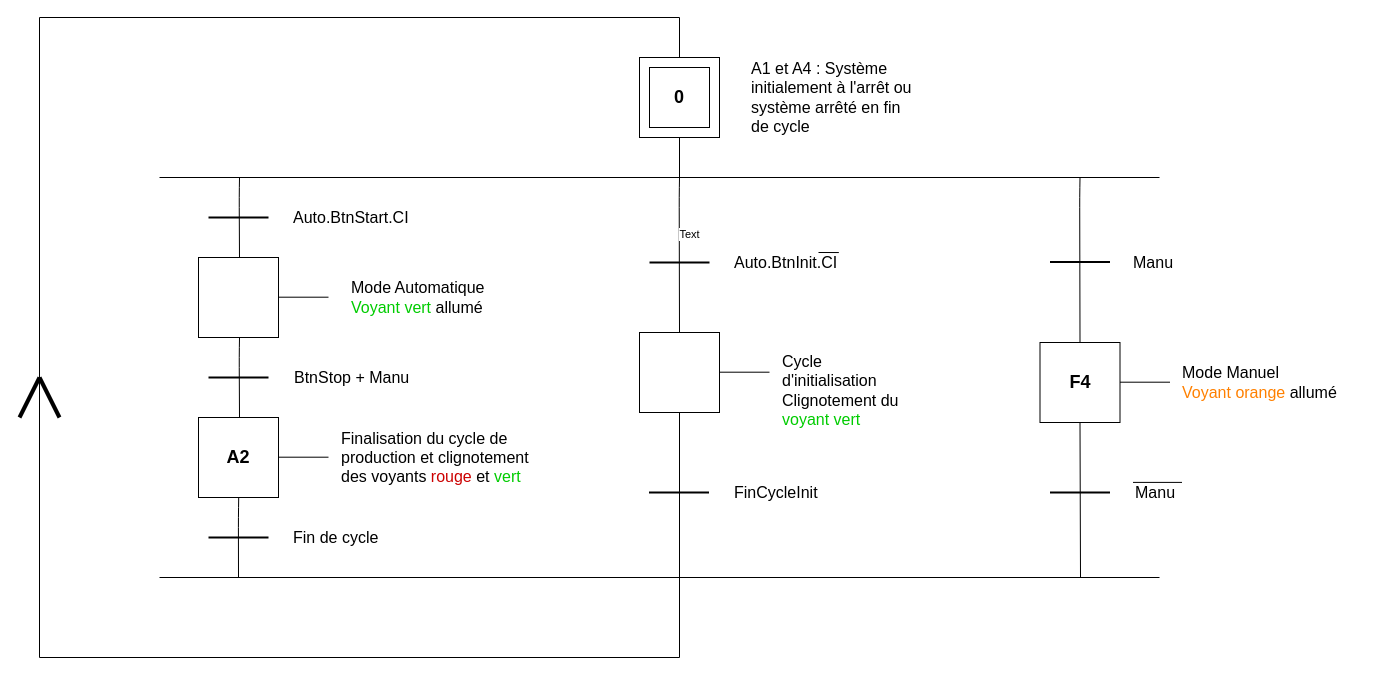
The diagram is 1384 pixels wide and 676 high, and some of its shapes have lost their labels. The box of each missing label's shape, as (x1, y1, x2, y2) in pixels:
A6: (638, 332, 720, 412)
F1: (198, 256, 278, 338)
